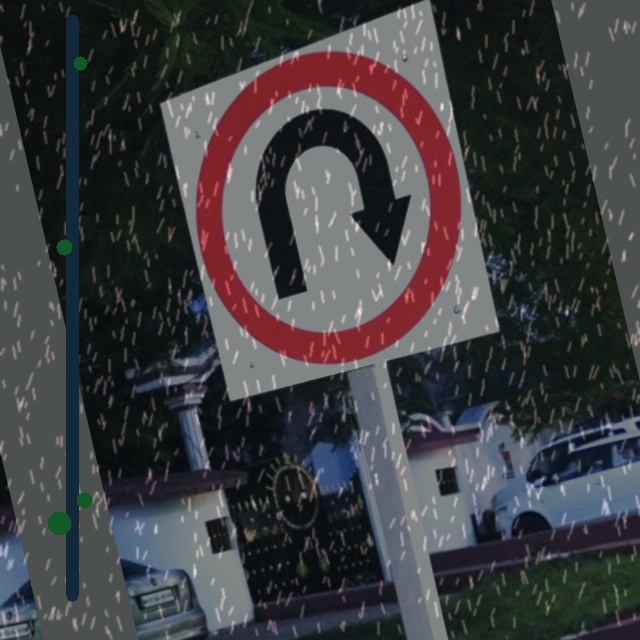U_Turn_Ahead: (153, 31, 498, 388)
